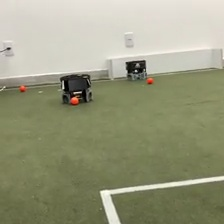ball: (68, 94, 79, 105), (146, 77, 154, 85), (19, 83, 26, 91)
goal: (105, 46, 224, 82)
robot: (58, 72, 95, 105), (123, 58, 149, 81)
